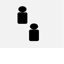human: (16, 5, 28, 24), (28, 22, 39, 41)
